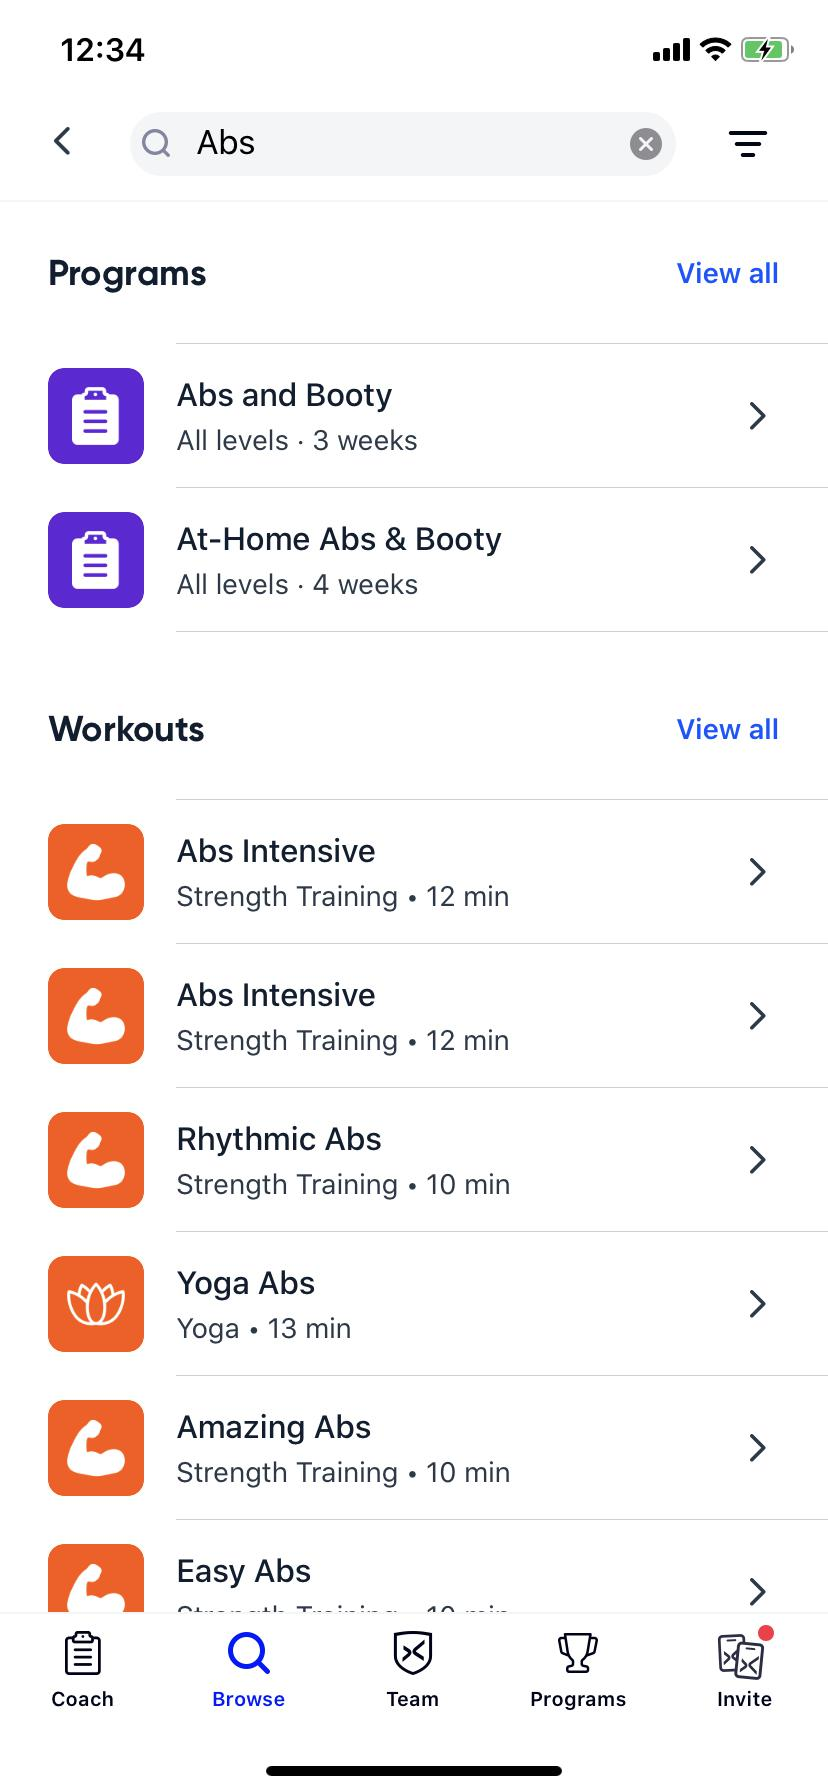Buttons: (646, 225, 801, 311), (646, 687, 801, 766)
